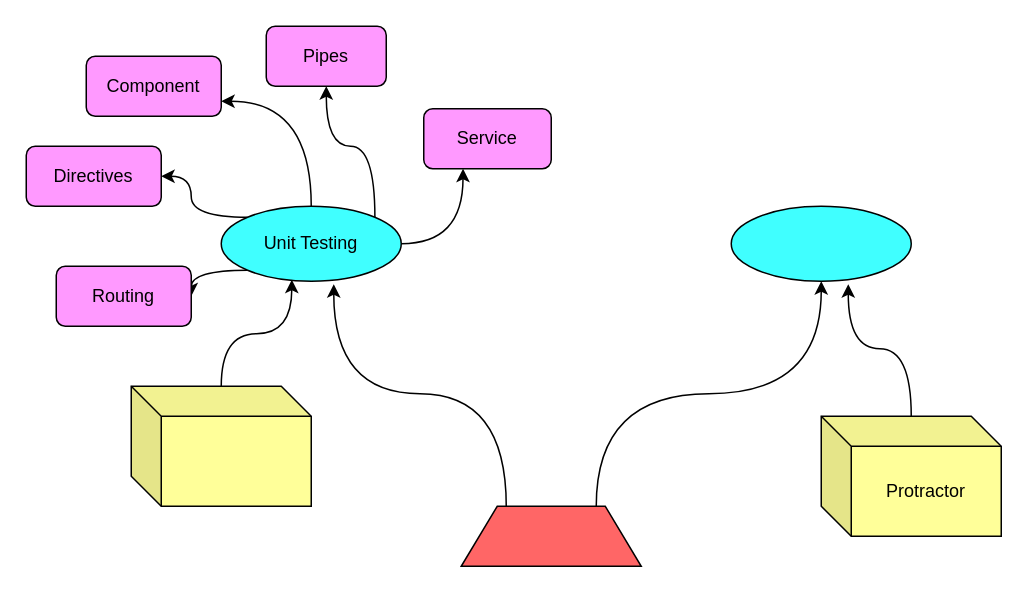
Some shapes in this 1028 by 593 pixel diagram are drawn without their labels. The shapes that lost their labels are listed below. From the top down, each one's centre as x and y in pixels, then its label:
the point at 820,243: E2E Testing
the point at 220,445: Karma with Jasmine
the point at 550,535: Angular Testing
